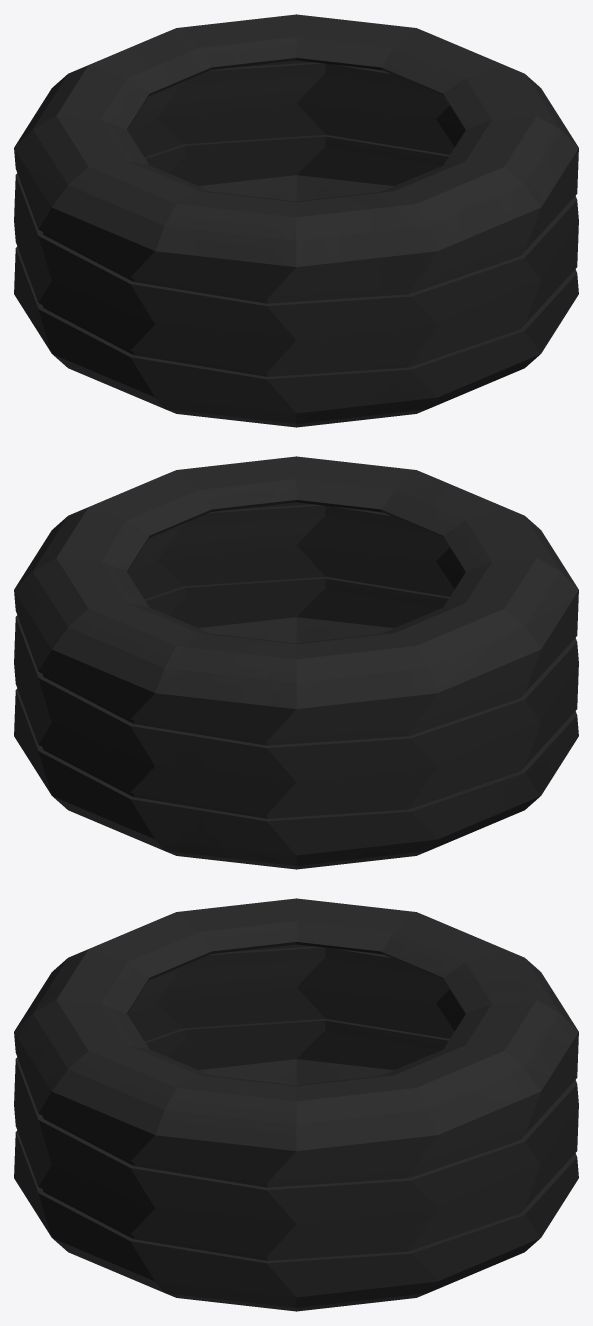
The model's file is SM_Tire.fbx.
3 views of the same model, one above another, from view 1: azimuth 30°, elevation 25°; view 2: azimuth 150°, elevation 25°; view 3: azimuth 270°, elevation 25° (orthographic).
Parts seen in each view (by area): view 1: Circle.003; view 2: Circle.003; view 3: Circle.003.
Boxes of the visible parts, box(x1,y1,x2,y2) form: Circle.003: box(14, 14, 578, 427); Circle.003: box(14, 456, 578, 869); Circle.003: box(14, 898, 578, 1311).
Bounding box in the file's own units: 61.95 × 25.42 × 61.95.
